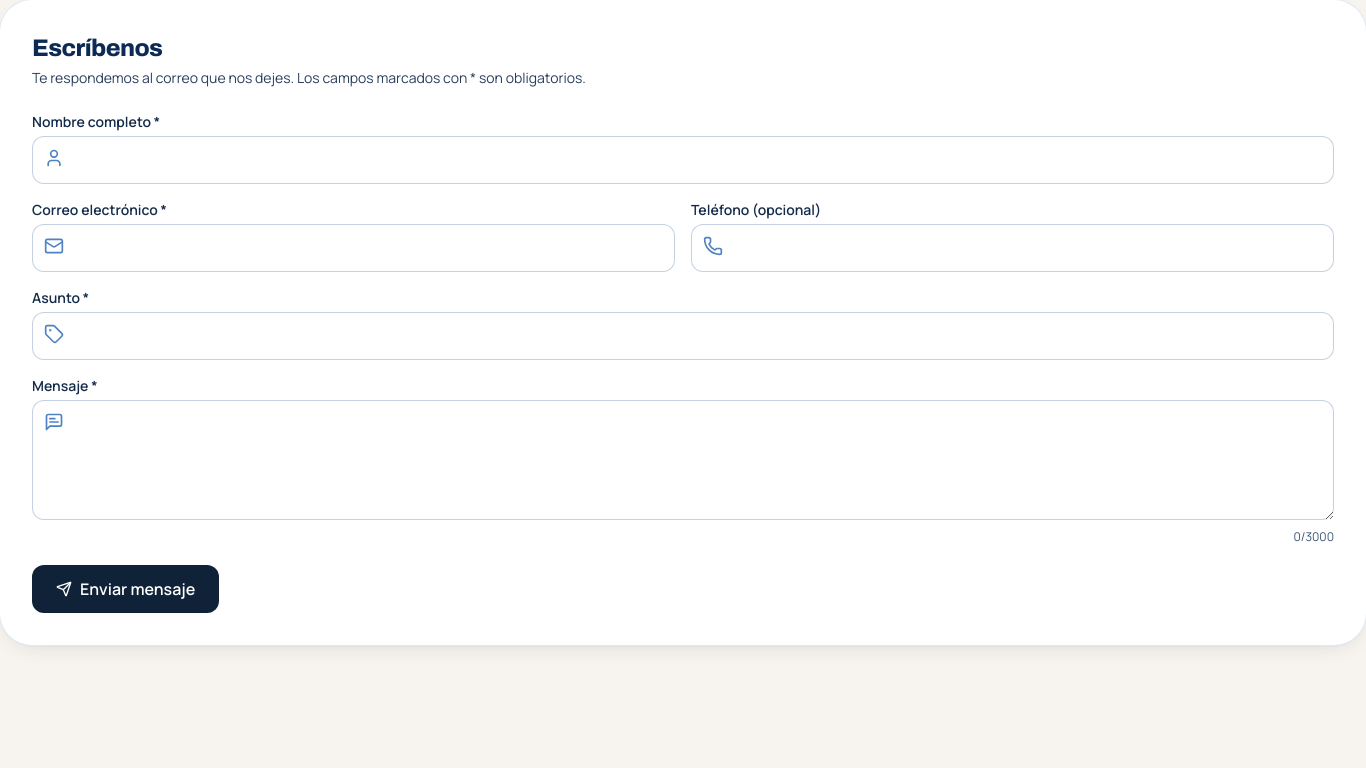
Test: formulario de contacto › valida en el cliente y no envía con datos incompletos
Type "An" into the field labelled "Nombre completo *".
click(683, 160); type("An")  # box [32,136,1334,184]
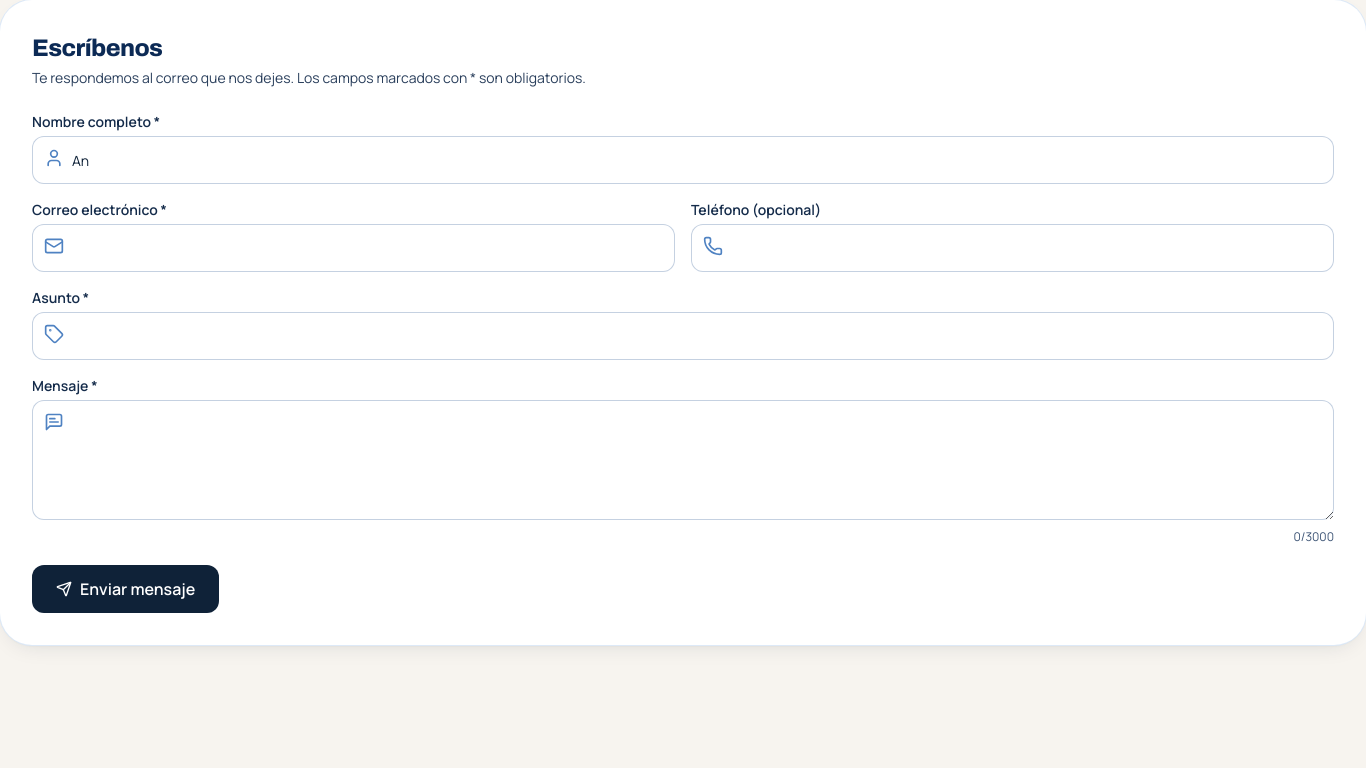
Type "no-es-correo" into the field labelled "Correo electrónico *".
click(354, 248); type("no-es-correo")  # box [32,224,675,272]
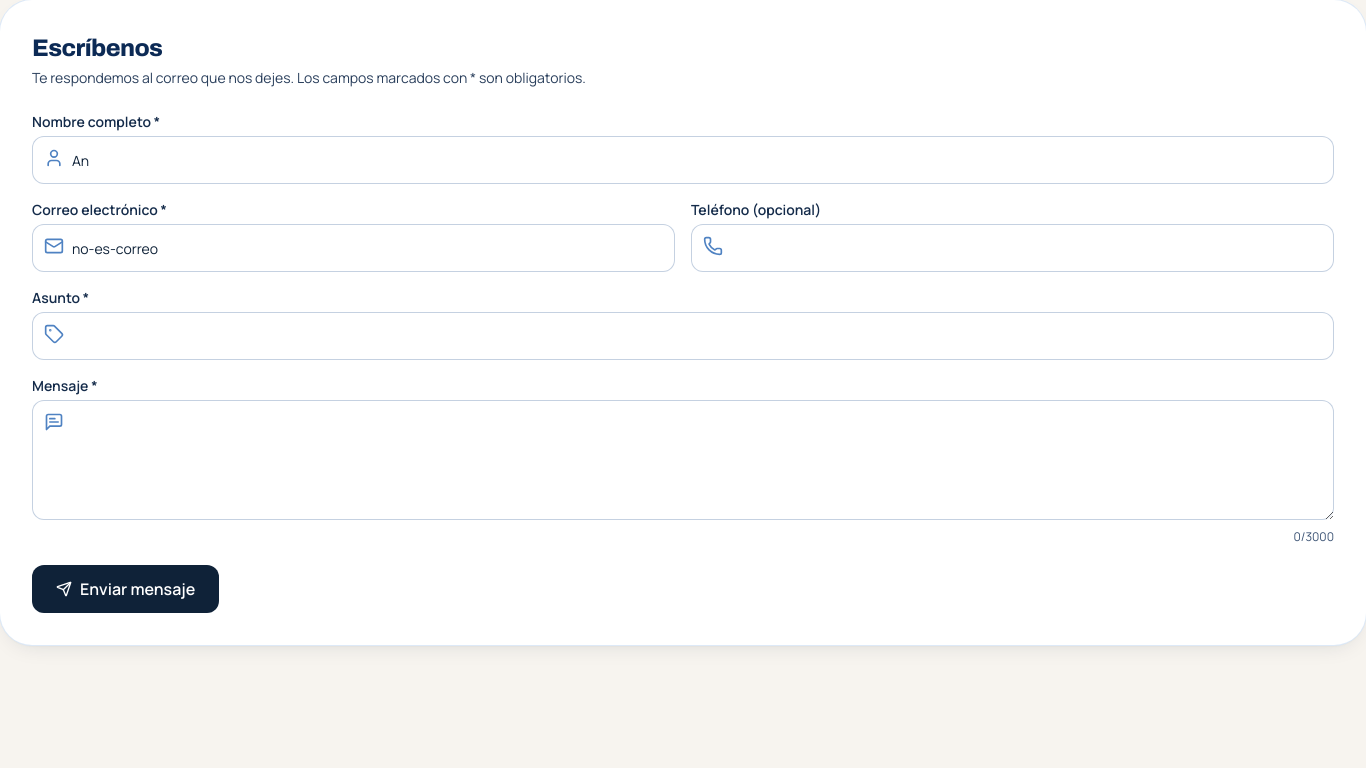
Click the button "Enviar mensaje".
click(126, 589)  # box [32,565,219,613]
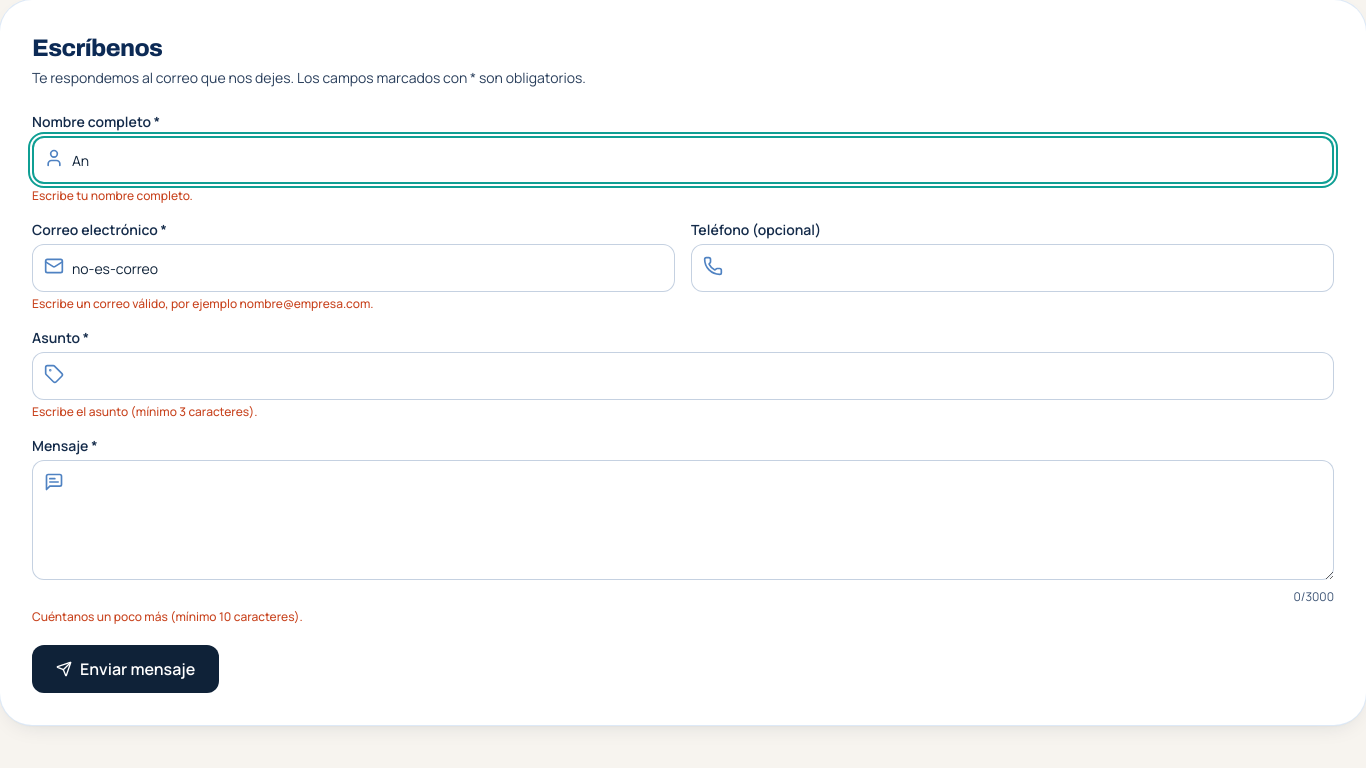
Expected: the text "Escribe tu nombre completo." is shown, [32,187,193,204]
Expected: the text "Escribe un correo válido, por ejemplo nombre@empresa.com." is shown, [32,295,374,312]
Expected: the text "Cuéntanos un poco más (mínimo 10 caracteres)." is shown, [32,608,303,625]
